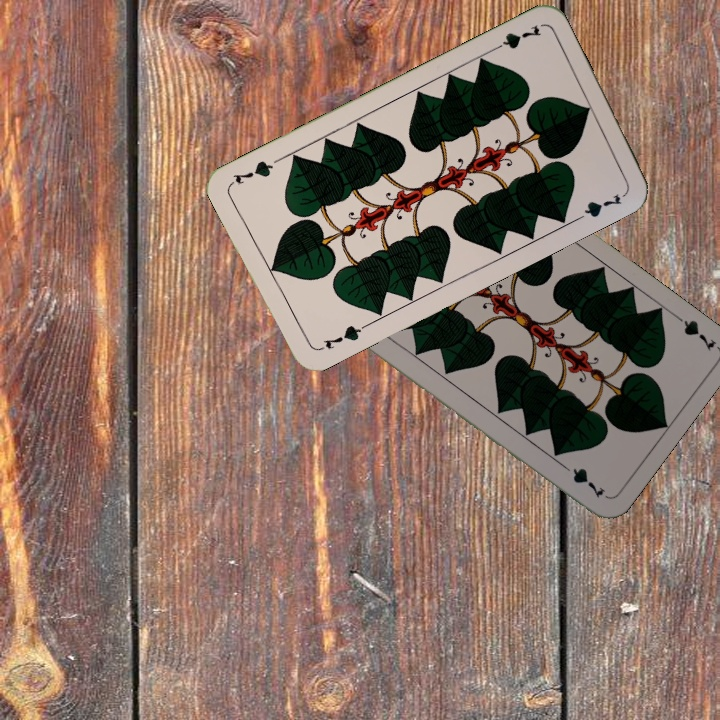G7: (667, 308, 719, 354), (487, 21, 544, 55), (319, 320, 369, 352)
